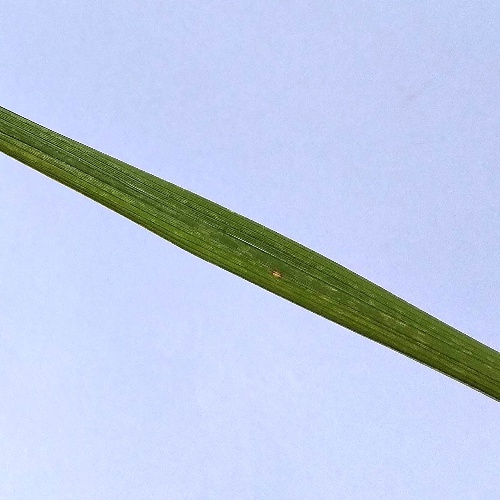Busuk Leher: (265, 263, 292, 287)
